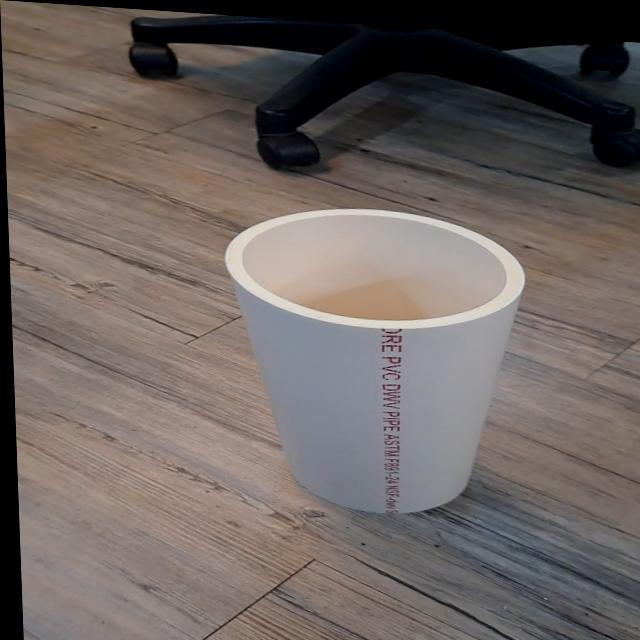CORAL: (200, 193, 548, 531)
